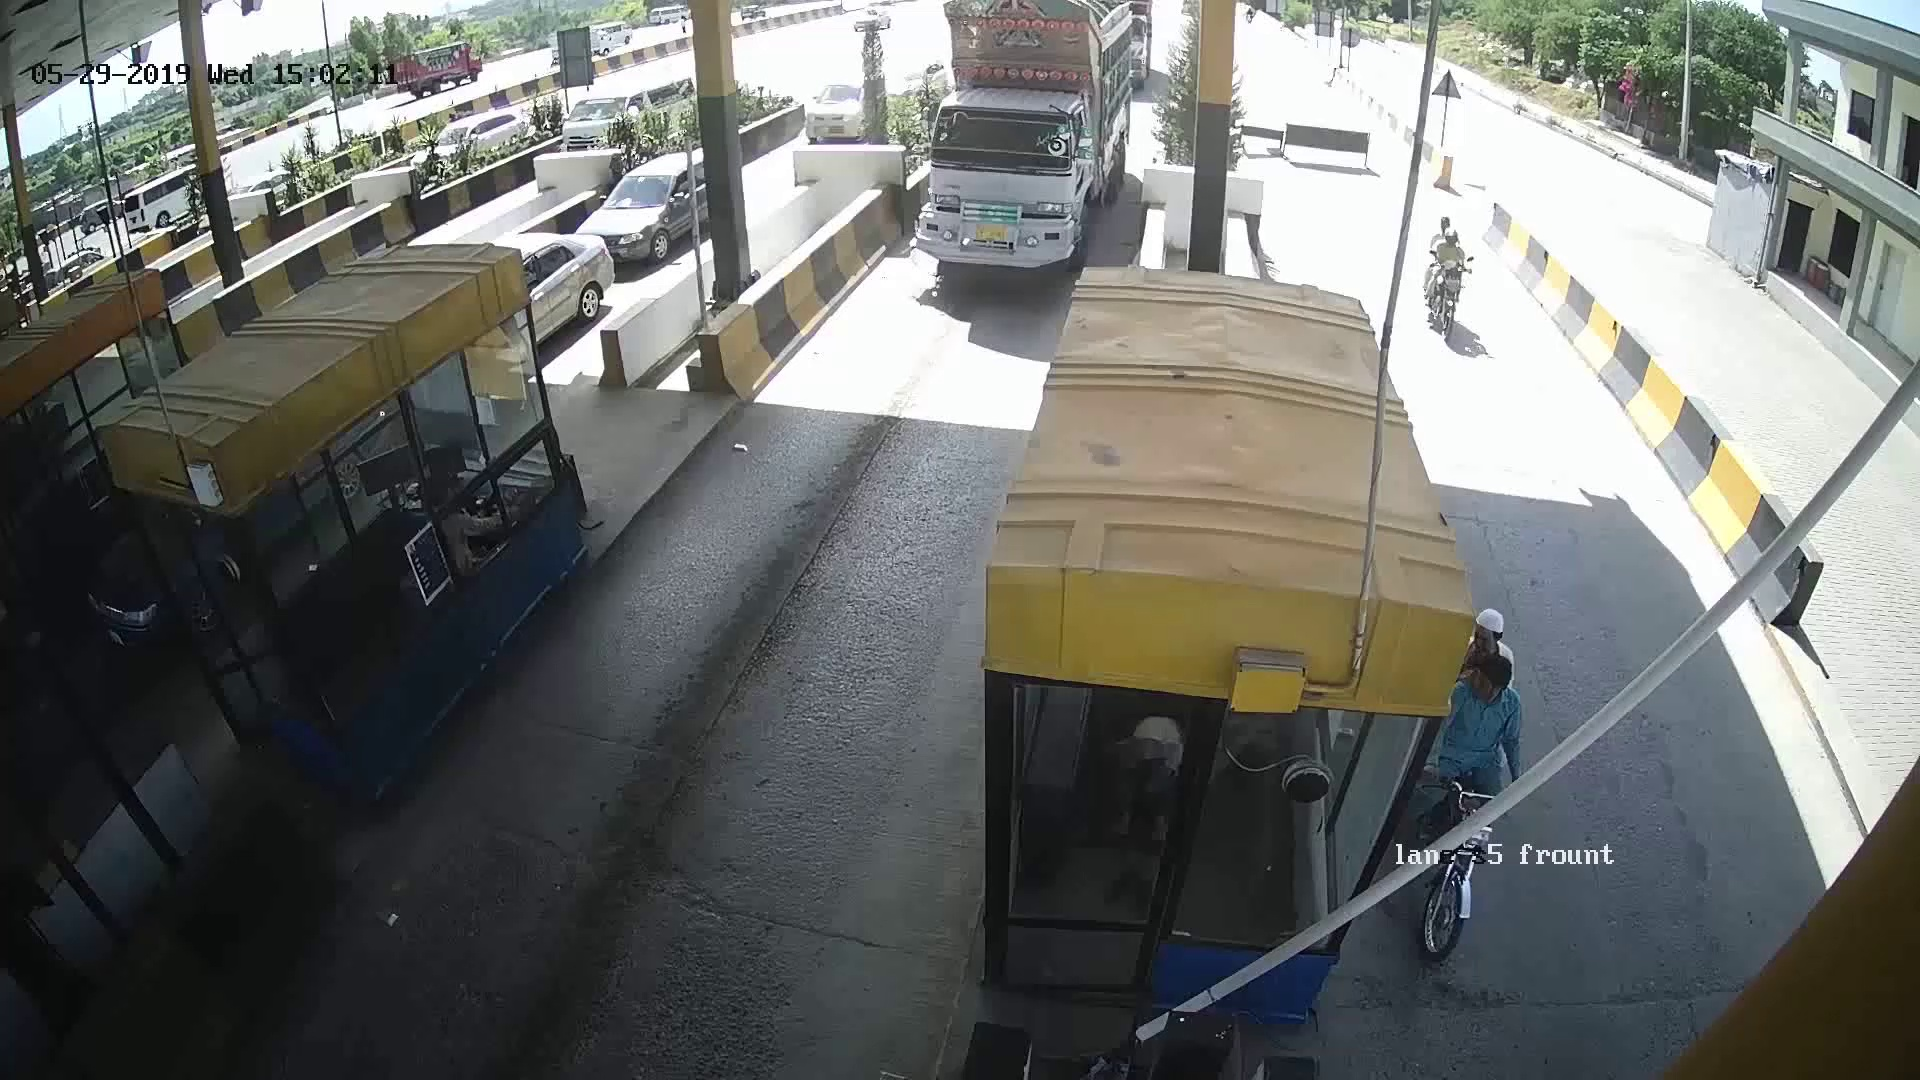truck: (924, 9, 1106, 248)
